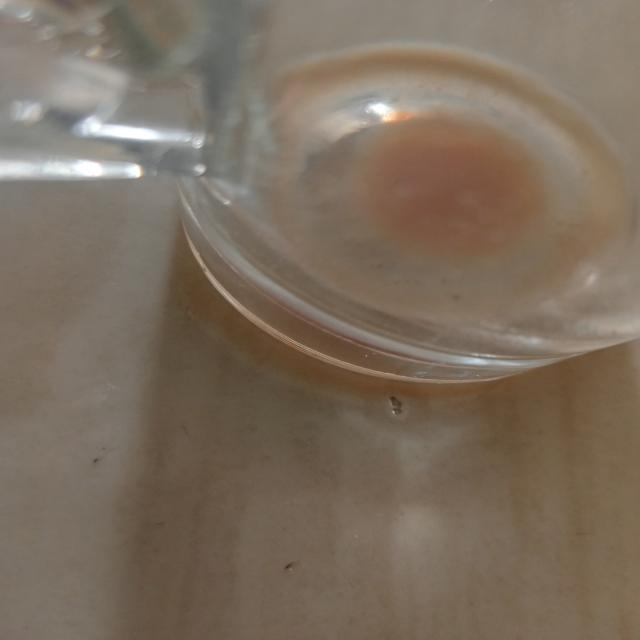glass-VX4N: (4, 3, 640, 400)
